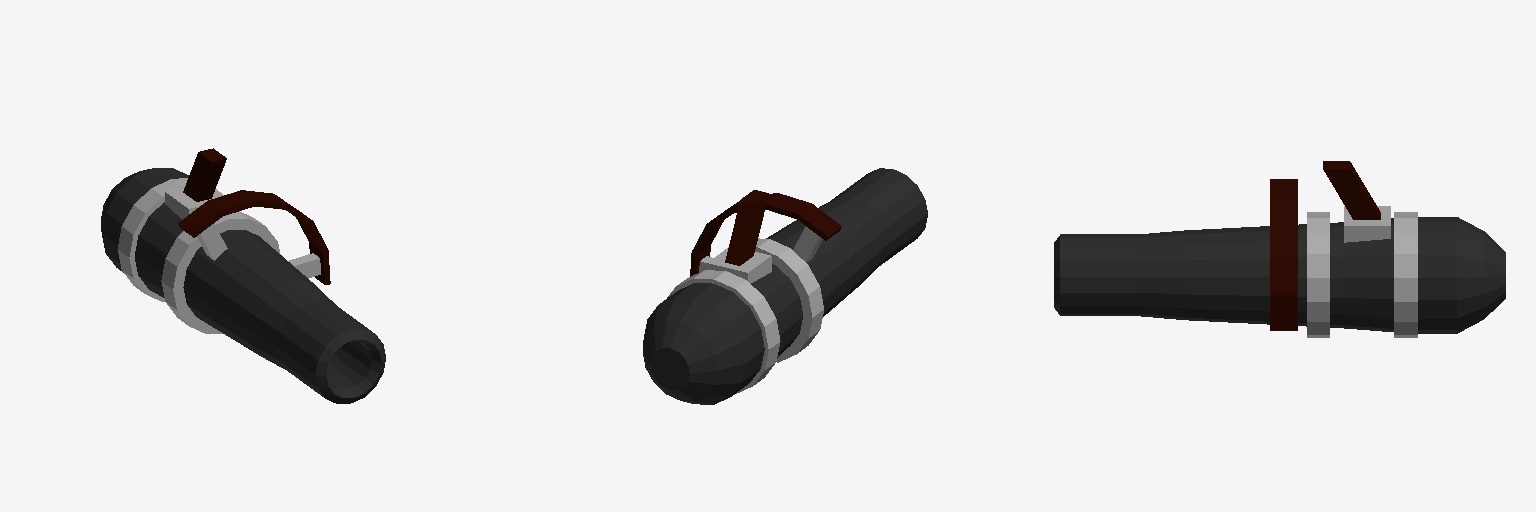
The model's file is gravity-gun.obj.
The picture shows the model from 3 angles: view 1: azimuth 30°, elevation 25°; view 2: azimuth 150°, elevation 25°; view 3: azimuth 270°, elevation 25°; orthographic projection.
Visible parts, largest first — view 1: Proto_PortableCannon_Cylinder.001; view 2: Proto_PortableCannon_Cylinder.001; view 3: Proto_PortableCannon_Cylinder.001.
Part boxes in pixels (bbox=[...]): Proto_PortableCannon_Cylinder.001: bbox=[101, 148, 385, 403]; Proto_PortableCannon_Cylinder.001: bbox=[643, 168, 927, 404]; Proto_PortableCannon_Cylinder.001: bbox=[1054, 161, 1505, 337].
Size of the model in its own units: 0.6801 by 0.7824 by 1.91.